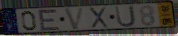0: (21, 10, 38, 32)
8: (139, 4, 157, 27)
E: (37, 9, 62, 32)
U: (114, 5, 137, 28)
V: (63, 6, 86, 31)
X: (87, 6, 109, 29)
